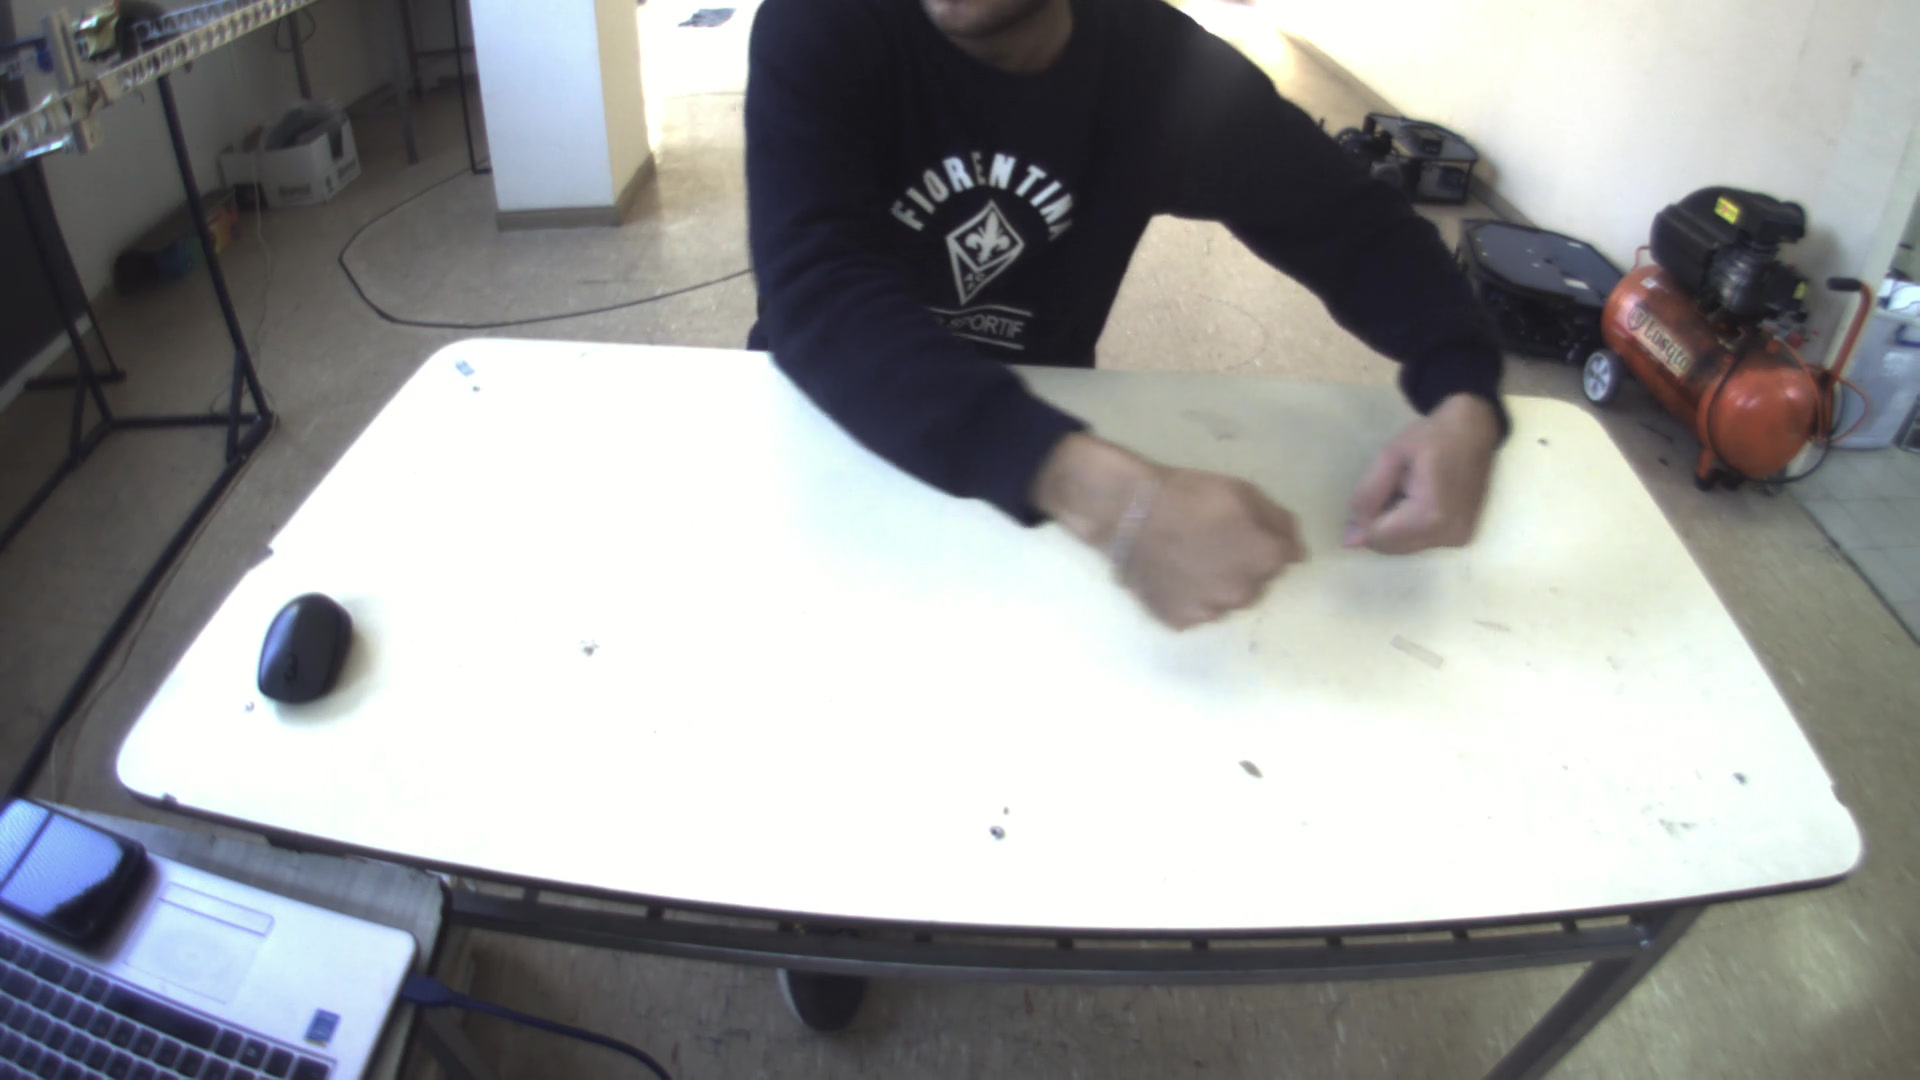hand: (1027, 417, 1317, 640), (1342, 397, 1520, 562)
